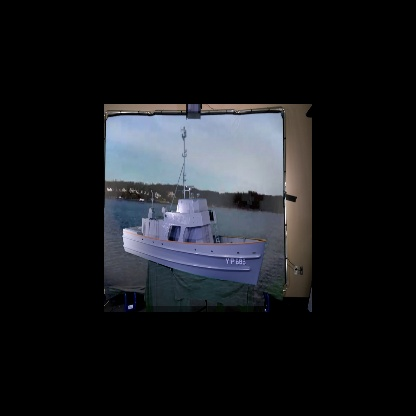YP689: (121, 124, 266, 287)
